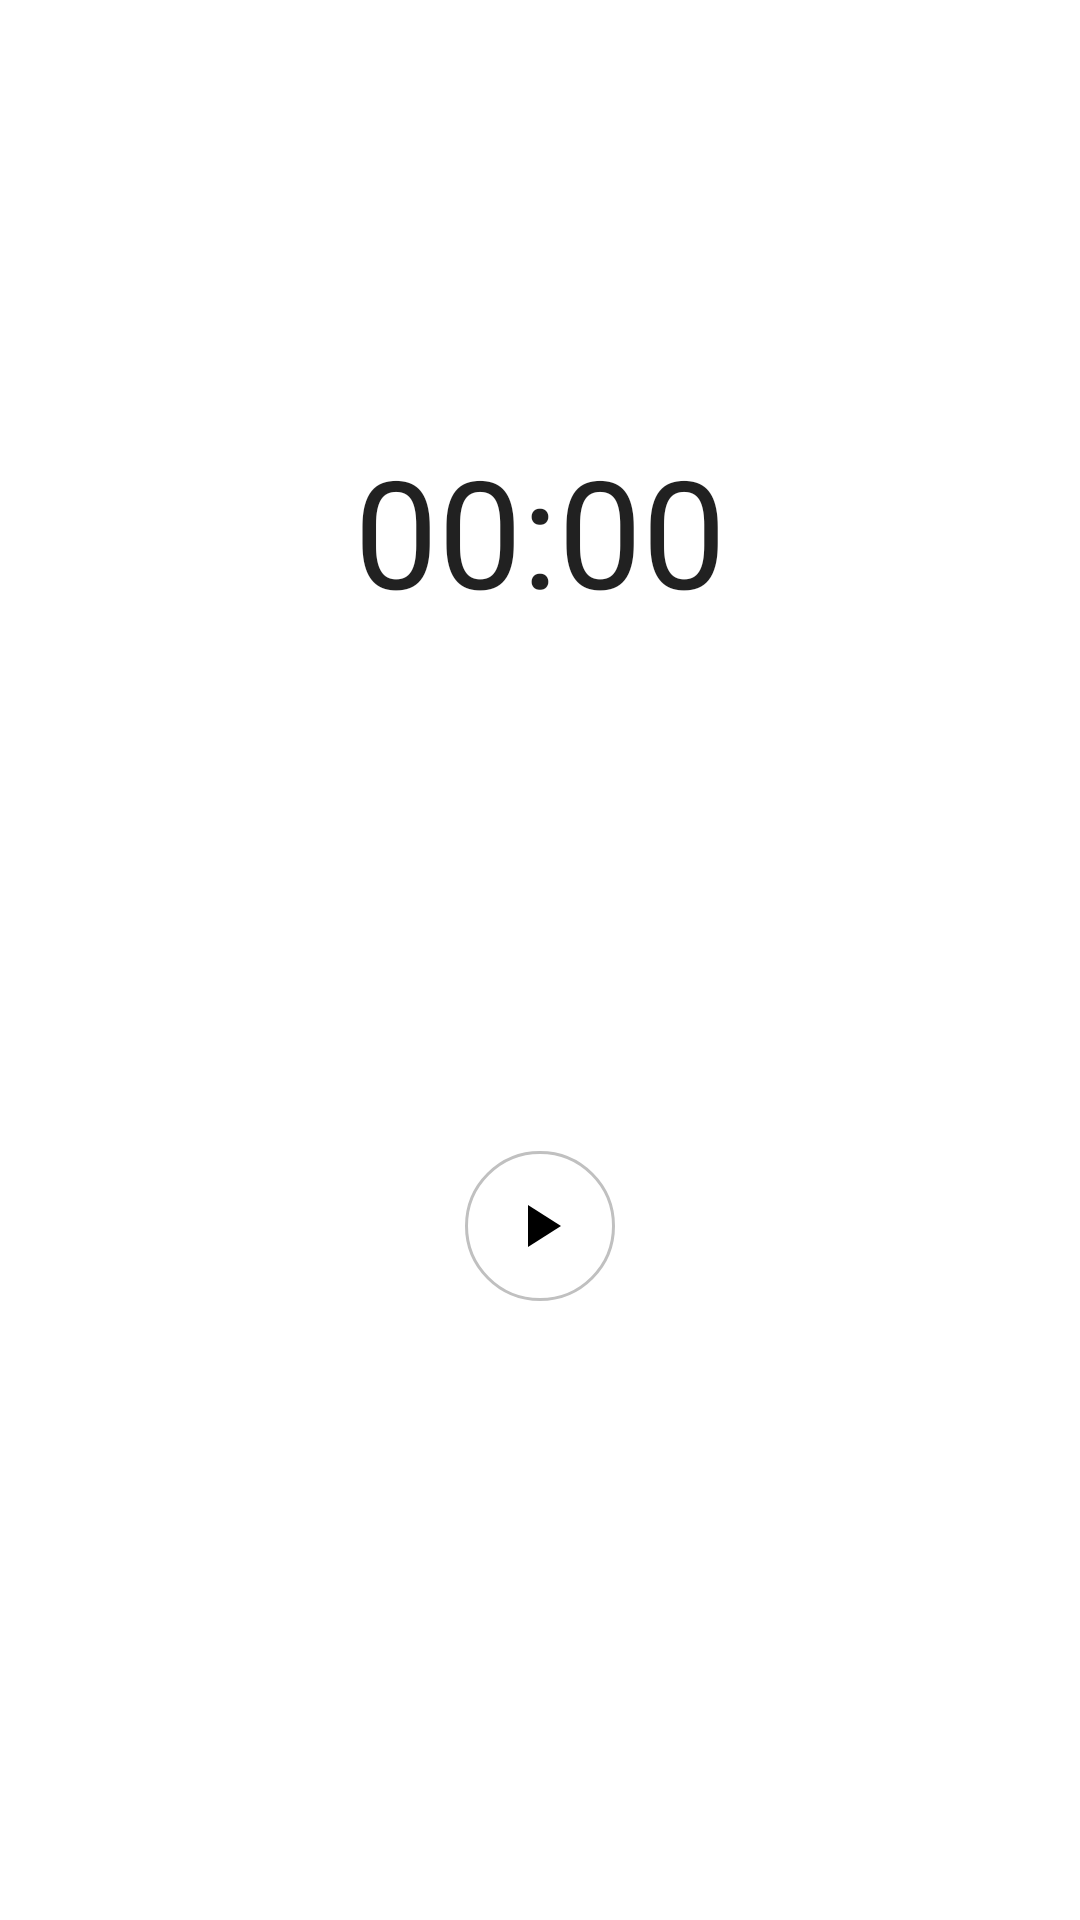

Icon bounding boxes for this 1080px x 1920px phone screenshot, format (x1, y1, x2, y2):
play: (465, 1151, 615, 1301)
